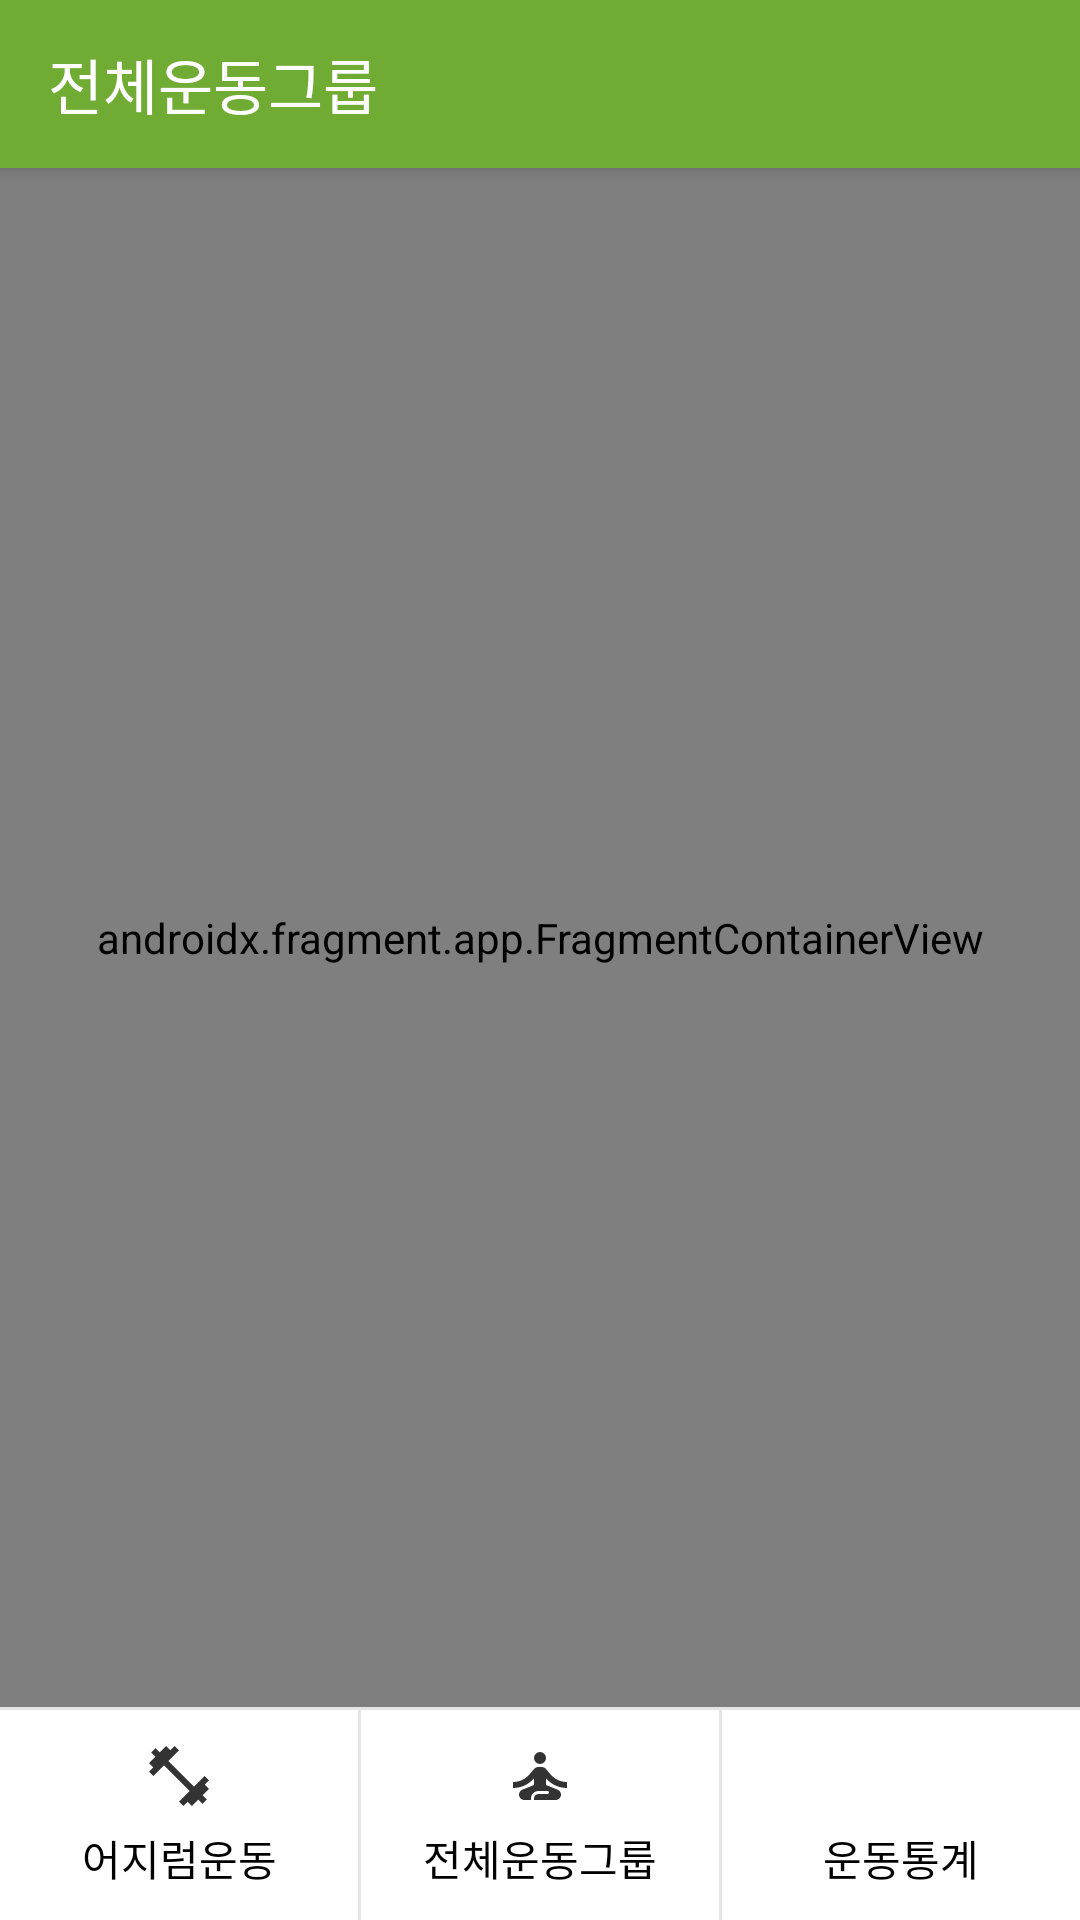

Point at icon controls on the screen. Image size 1080px×1920px, points as (x,y).
custom exercise: (179,1776)
stretching: (540,1776)
